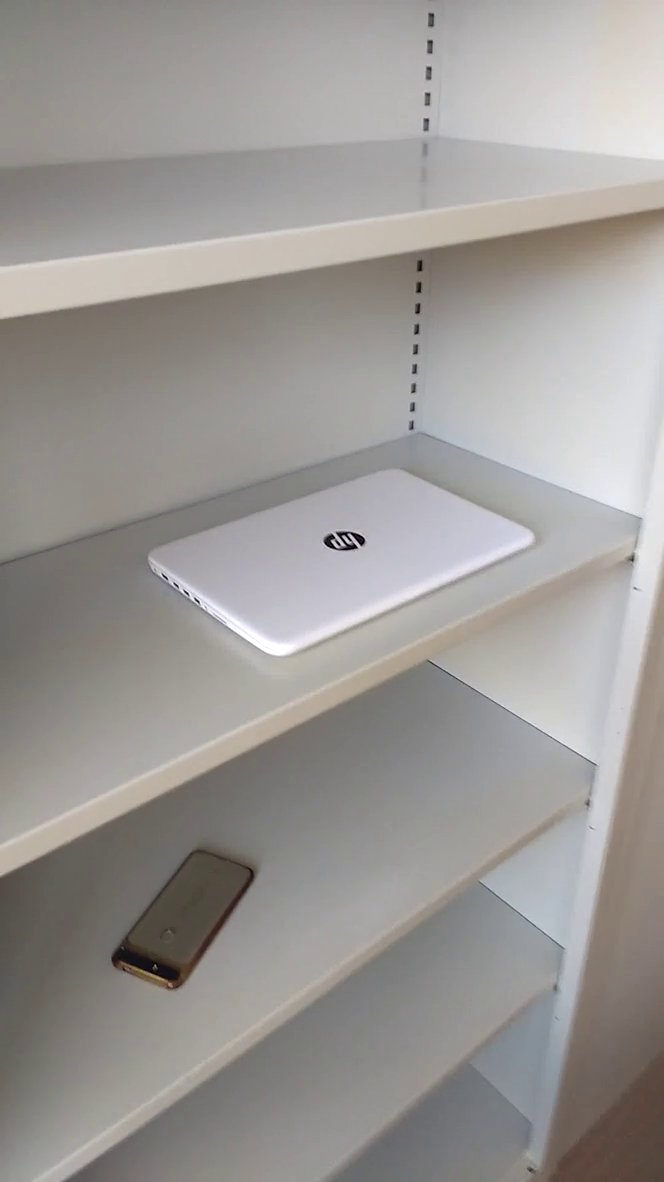laptop: (138, 463, 563, 675)
phone: (99, 837, 263, 1005)
